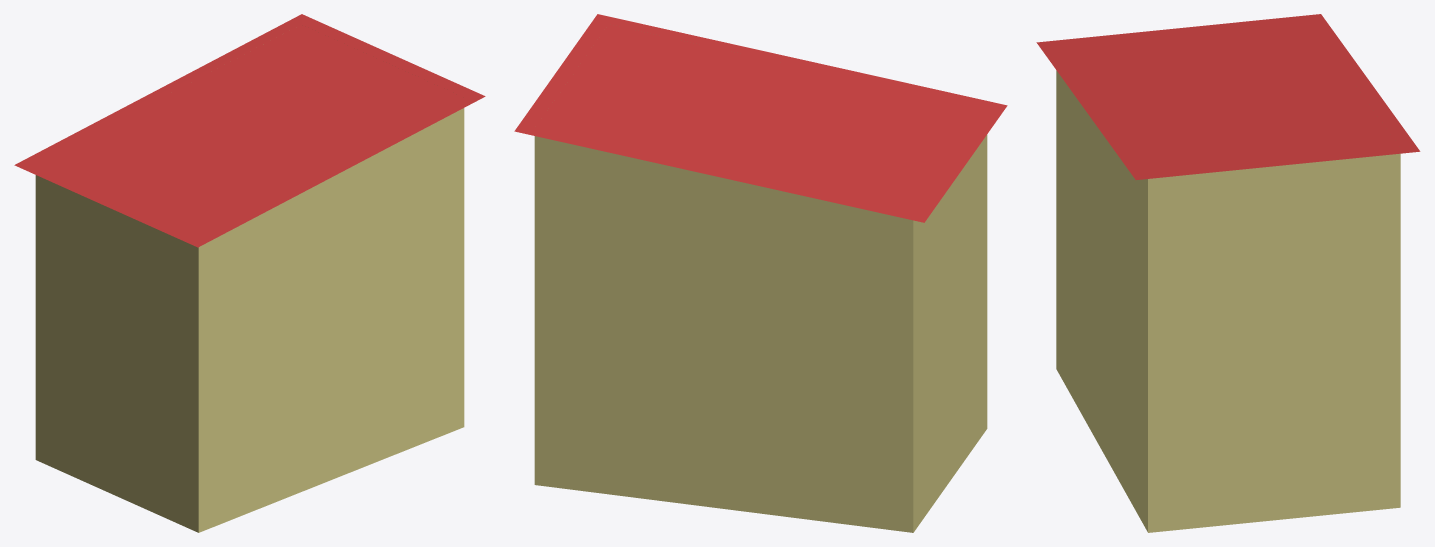
3 renders of one model, left to right at view 1: azimuth 30°, elevation 25°; view 2: azimuth 150°, elevation 25°; view 3: azimuth 270°, elevation 25°, orthographic. The views are drawn at different scales.
Size of the model in its own units: 7.35 by 5.79 by 6.01.
